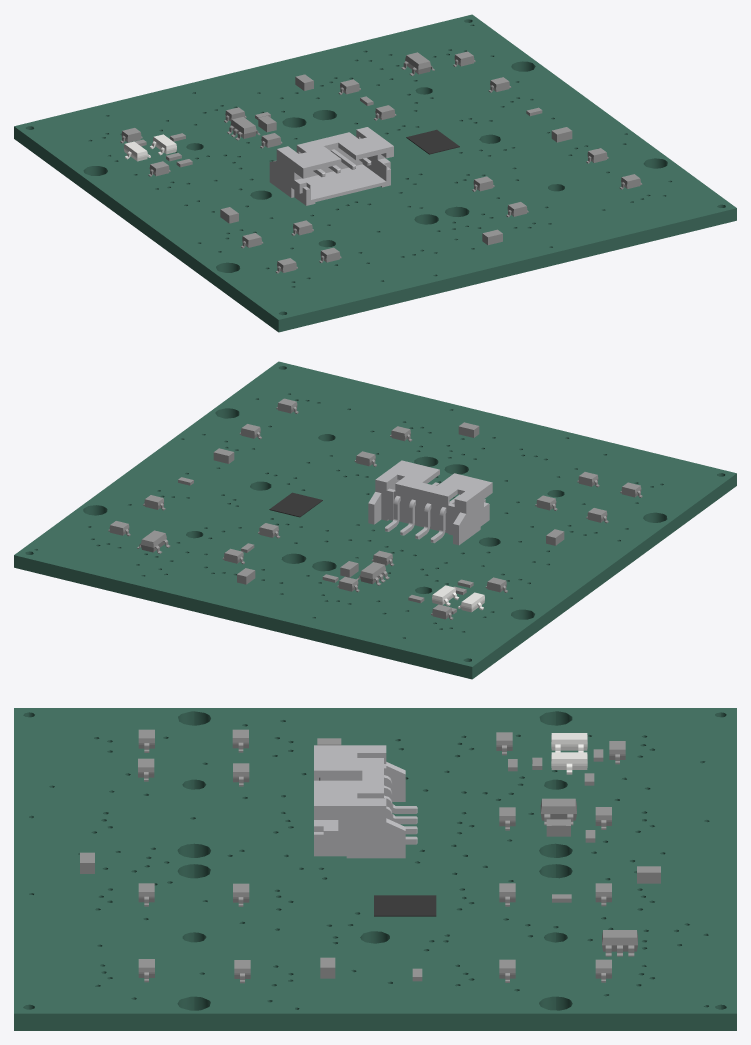
Rendered from ada-3954.glb.
3 renders of one model, top to bottom at view 1: azimuth 30°, elevation 25°; view 2: azimuth 150°, elevation 25°; view 3: azimuth 270°, elevation 25°, orthographic. The views are drawn at different scales.
Parts seen in each view (by area): view 1: 0.08333333333333333_0.16666666666666666_0.16666666666666666_, 0.3333333333333333_0.3333333333333333_0.3333333333333333_0, 0.5833333333333334_0.5833333333333334_0.5833333333333334_0.8, 0.08333333333333333_0.08333333333333333_0.08333333333333333_, 0.9166666666666666_0.9166666666666666_0.9166666666666666_0.8; view 2: 0.08333333333333333_0.16666666666666666_0.16666666666666666_, 0.5833333333333334_0.5833333333333334_0.5833333333333334_0.8, 0.3333333333333333_0.3333333333333333_0.3333333333333333_0, 0.08333333333333333_0.08333333333333333_0.08333333333333333_, 0.9166666666666666_0.9166666666666666_0.9166666666666666_0.8; view 3: 0.08333333333333333_0.16666666666666666_0.16666666666666666_, 0.5833333333333334_0.5833333333333334_0.5833333333333334_0.8, 0.3333333333333333_0.3333333333333333_0.3333333333333333_0, 0.08333333333333333_0.08333333333333333_0.08333333333333333_, 0.9166666666666666_0.9166666666666666_0.9166666666666666_0.8.
Boxes of the visible parts, <box> form: 0.08333333333333333_0.16666666666666666_0.16666666666666666_: <box>14,14,736,332</box>; 0.3333333333333333_0.3333333333333333_0.3333333333333333_0: <box>120,51,642,273</box>; 0.5833333333333334_0.5833333333333334_0.5833333333333334_0.8: <box>269,127,393,205</box>; 0.08333333333333333_0.08333333333333333_0.08333333333333333_: <box>406,129,459,154</box>; 0.9166666666666666_0.9166666666666666_0.9166666666666666_0.8: <box>123,134,176,161</box>; 0.08333333333333333_0.16666666666666666_0.16666666666666666_: <box>14,361,736,679</box>; 0.5833333333333334_0.5833333333333334_0.5833333333333334_0.8: <box>368,460,492,545</box>; 0.3333333333333333_0.3333333333333333_0.3333333333333333_0: <box>108,398,642,619</box>; 0.08333333333333333_0.08333333333333333_0.08333333333333333_: <box>269,492,322,517</box>; 0.9166666666666666_0.9166666666666666_0.9166666666666666_0.8: <box>432,585,484,612</box>; 0.08333333333333333_0.16666666666666666_0.16666666666666666_: <box>14,708,736,1030</box>; 0.5833333333333334_0.5833333333333334_0.5833333333333334_0.8: <box>314,745,417,858</box>; 0.3333333333333333_0.3333333333333333_0.3333333333333333_0: <box>80,729,660,983</box>; 0.08333333333333333_0.08333333333333333_0.08333333333333333_: <box>374,895,436,916</box>; 0.9166666666666666_0.9166666666666666_0.9166666666666666_0.8: <box>551,733,587,774</box>.
Bounding box in the file's own units: 6 × 0.757 × 6.
